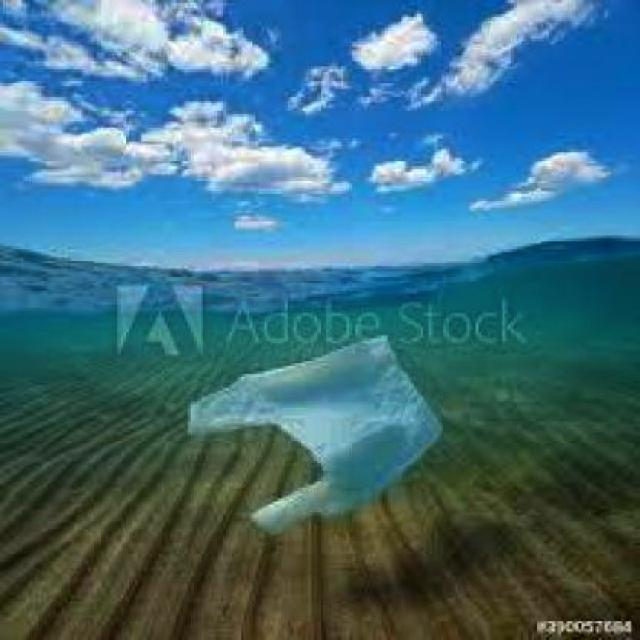pbag: (185, 334, 443, 538)
